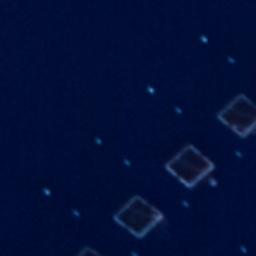square_cover: (159, 142, 216, 192), (110, 190, 162, 239), (213, 90, 256, 141)
